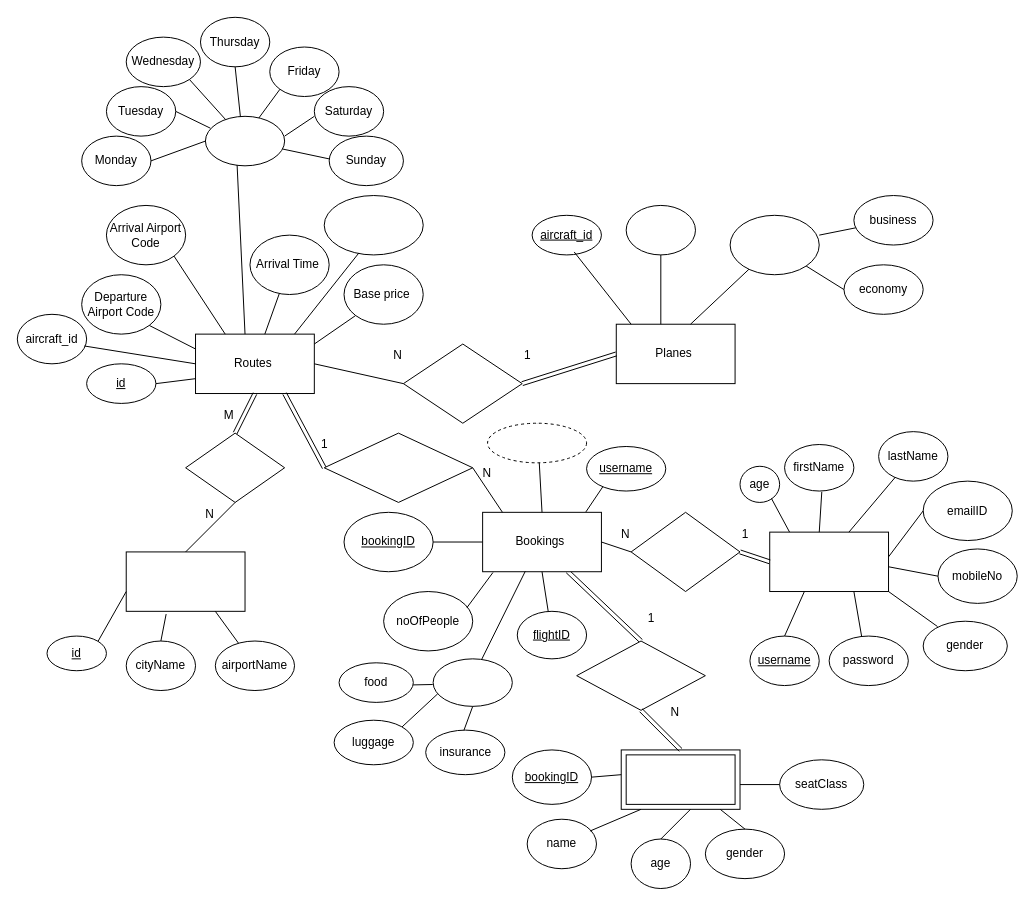
Some shapes in this 1035 by 906 pixel diagram are drawn without their labels. Here are the shapes that lost their labels. From the top down, the centre of each, then its label:
At [244,140]: "Frequency".
At [373,225]: "Departure Time".
At [660,229]: "Model".
At [774,244]: "capacity".
At [462,383]: "Operates on".
At [537,442]: "amountPaid".
At [235,467]: "Serves as".
At [398,467]: "Booked by".
At [685,551]: "Makes".
At [829,561]: "Users".
At [185,581]: "Cities".
At [472,682]: "addons".
At [640,675]: "details added".
At [680,779]: "BookingDetails".
